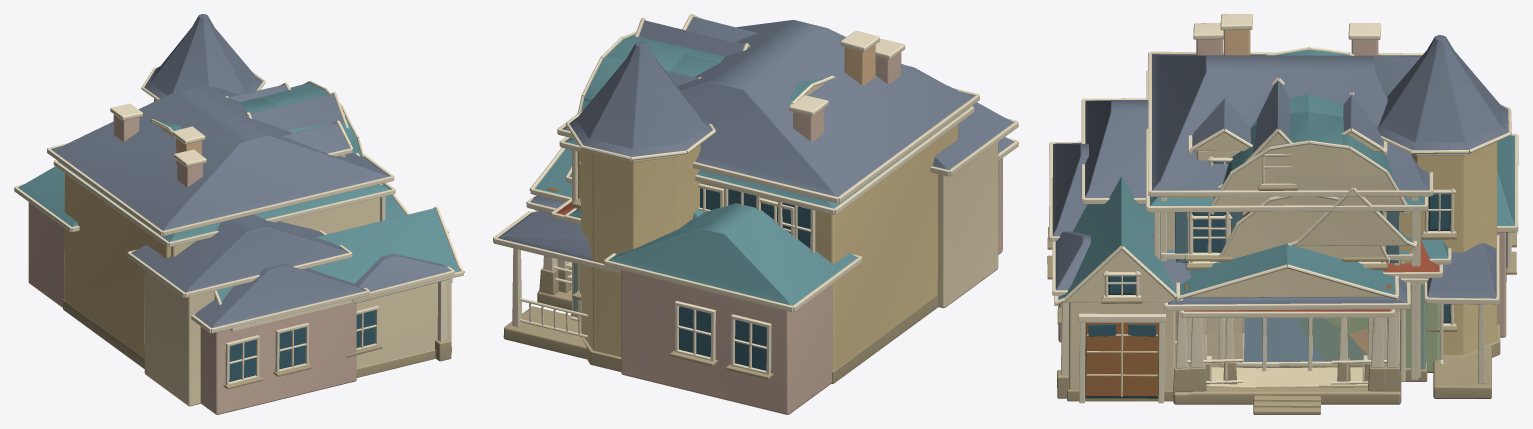
Rendered from playable-houses.glb.
3 views of the same model, side by side, from view 1: azimuth 30°, elevation 25°; view 2: azimuth 150°, elevation 25°; view 3: azimuth 270°, elevation 25° (orthographic). The views are drawn at different scales.
Parts seen in each view (by area): view 1: mansion / Mansion / violet slate, estate / Estate / pale rose plaster, mansion / Mansion / sun faded buttercream, estate / Mansion / violet slate, estate / Sunlit cream trim, mansion / Chalk / warm ivory, lshape / Slate / blue green, lshape / Chalk / warm ivory, mansion / Sunlit cream trim, estate / Slate / blue green, estate / Chalk / warm ivory, lshape / Sunlit cream trim (+6 smaller); view 2: mansion / Mansion / violet slate, mansion / Mansion / sun faded buttercream, estate / Estate / pale rose plaster, estate / Slate / blue green, estate / Sunlit cream trim, mansion / Sunlit cream trim, mansion / Chalk / warm ivory, mansion / Porch sandstone, clapboard / Slate / blue green, estate / Painted window / deep cyan, estate / Mansion / violet slate, mansion / Painted window / deep cyan (+4 smaller); view 3: mansion / Mansion / violet slate, mansion / Sunlit cream trim, clapboard / Slate / blue green, estate / Sunlit cream trim, estate / Slate / blue green, mansion / Mansion / sun faded buttercream, estate / Mansion / violet slate, lshape / Slate / blue green, mansion / Porch sandstone, lshape / Sunlit cream trim, lshape / Honey stained wood, lshape / Porch sandstone (+22 smaller).
Part boxes in pixels (bbox=[...]): mansion / Mansion / violet slate: bbox=[51, 14, 389, 292]; estate / Estate / pale rose plaster: bbox=[28, 114, 356, 414]; mansion / Mansion / sun faded buttercream: bbox=[64, 98, 170, 358]; estate / Mansion / violet slate: bbox=[194, 84, 451, 327]; estate / Sunlit cream trim: bbox=[14, 82, 454, 385]; mansion / Chalk / warm ivory: bbox=[144, 269, 214, 406]; lshape / Slate / blue green: bbox=[214, 208, 460, 301]; lshape / Chalk / warm ivory: bbox=[356, 279, 450, 367]; mansion / Sunlit cream trim: bbox=[47, 67, 394, 297]; estate / Slate / blue green: bbox=[18, 161, 405, 241]; estate / Chalk / warm ivory: bbox=[171, 154, 379, 256]; lshape / Sunlit cream trim: bbox=[213, 206, 464, 350]; mansion / Mansion / violet slate: bbox=[498, 20, 1013, 260]; mansion / Mansion / sun faded buttercream: bbox=[577, 124, 958, 370]; estate / Estate / pale rose plaster: bbox=[621, 52, 1002, 414]; estate / Slate / blue green: bbox=[535, 108, 968, 305]; estate / Sunlit cream trim: bbox=[529, 14, 1018, 374]; mansion / Sunlit cream trim: bbox=[493, 17, 1018, 338]; mansion / Chalk / warm ivory: bbox=[937, 142, 998, 308]; mansion / Porch sandstone: bbox=[503, 198, 938, 383]; clapboard / Slate / blue green: bbox=[581, 34, 825, 111]; estate / Painted window / deep cyan: bbox=[679, 188, 777, 370]; estate / Mansion / violet slate: bbox=[665, 16, 1013, 153]; mansion / Painted window / deep cyan: bbox=[728, 189, 810, 248]; mansion / Mansion / violet slate: bbox=[1085, 35, 1508, 304]; mansion / Sunlit cream trim: bbox=[1081, 14, 1511, 384]; clapboard / Slate / blue green: bbox=[1213, 49, 1402, 205]; estate / Sunlit cream trim: bbox=[1049, 23, 1518, 378]; estate / Slate / blue green: bbox=[1150, 135, 1514, 297]; mansion / Mansion / sun faded buttercream: bbox=[1167, 141, 1497, 354]; estate / Mansion / violet slate: bbox=[1052, 95, 1383, 290]; lshape / Slate / blue green: bbox=[1058, 176, 1176, 302]; mansion / Porch sandstone: bbox=[1173, 185, 1500, 414]; lshape / Sunlit cream trim: bbox=[1054, 143, 1442, 403]; lshape / Honey stained wood: bbox=[1085, 322, 1158, 396]; lshape / Porch sandstone: bbox=[1057, 296, 1427, 414].
Bounding box in the file's own units: 11.32 × 9.53 × 13.24.
